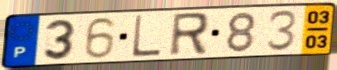3: (265, 9, 299, 53), (43, 18, 77, 62)
6: (82, 16, 119, 61)
8: (224, 10, 260, 54)
L: (130, 14, 163, 60)
R: (167, 10, 211, 58)
